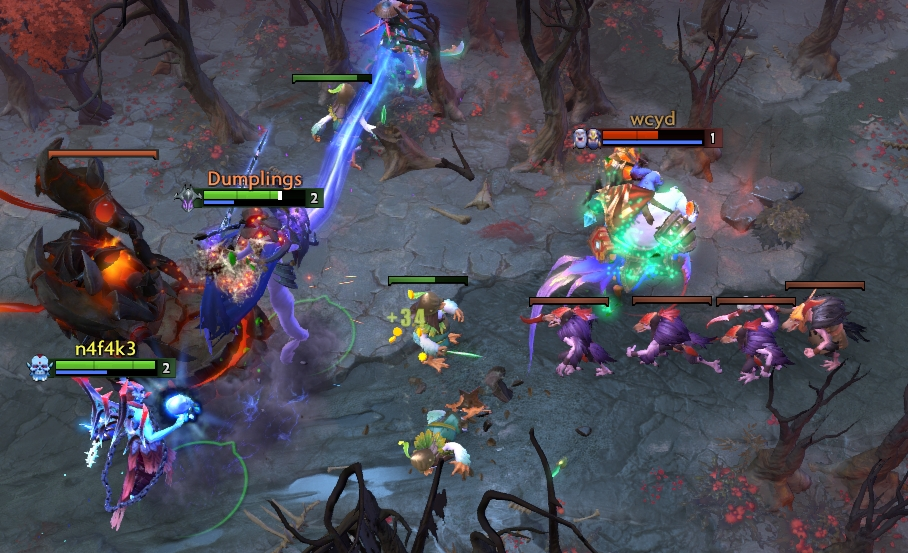allyCreep: (287, 69, 376, 88), (380, 272, 471, 288)
enemyCreep: (780, 276, 868, 293), (525, 293, 612, 307), (629, 293, 712, 306), (714, 295, 799, 307)
